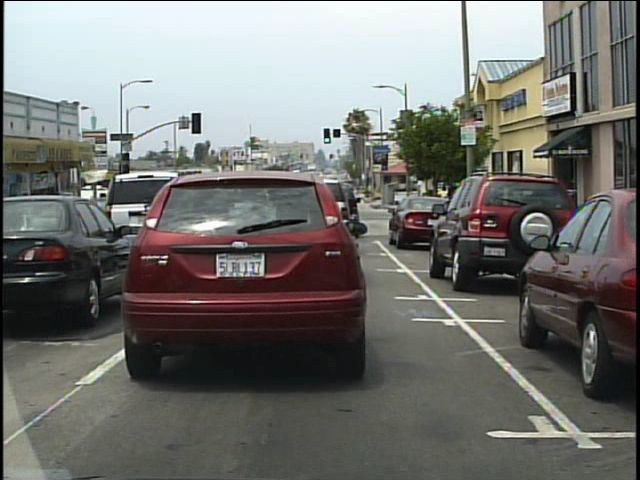person: (428, 189, 440, 224), (421, 191, 430, 223)
